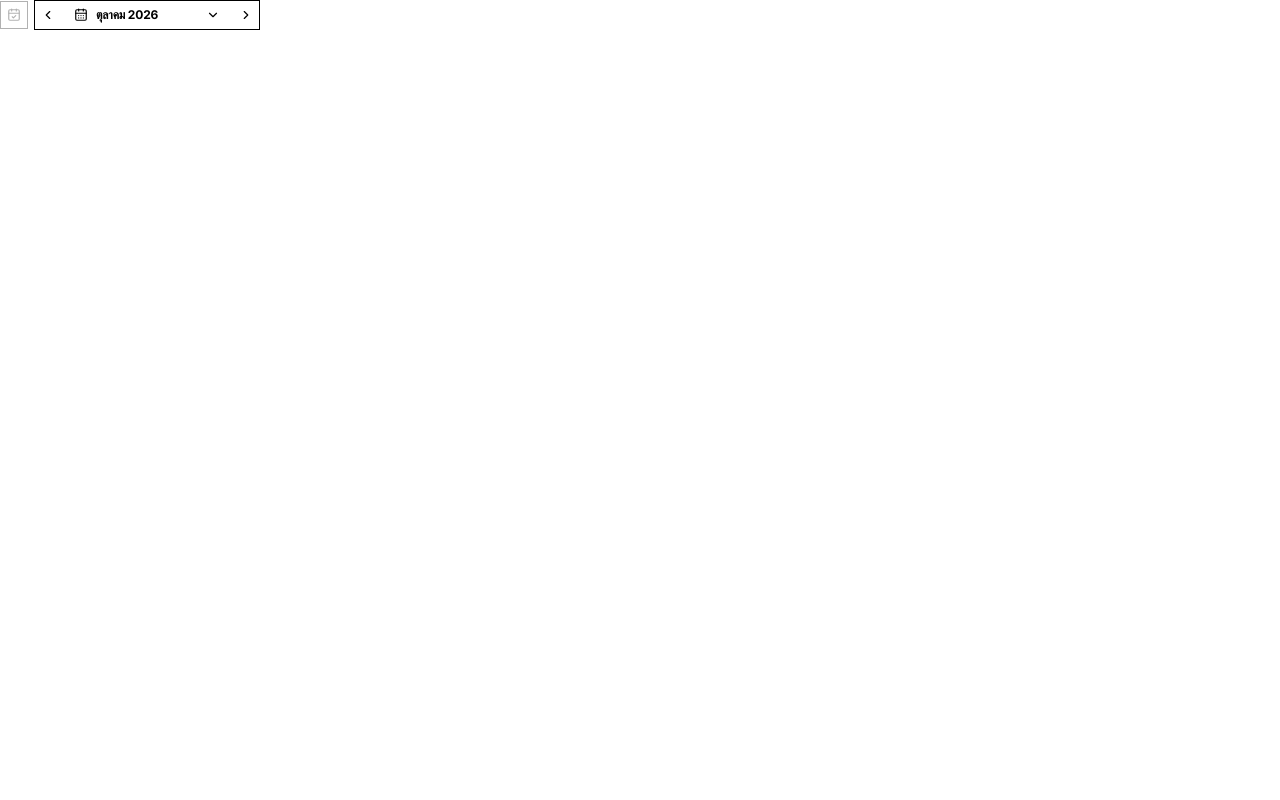
Test: PeriodPicker — trigger › is closed at first and toggles on each click (aria-expanded follows)
The image size is (1280, 800).
Click the button "ตุลาคม 2026". click: click(147, 15)
box: top-left (62, 1), bottom-right (232, 29)
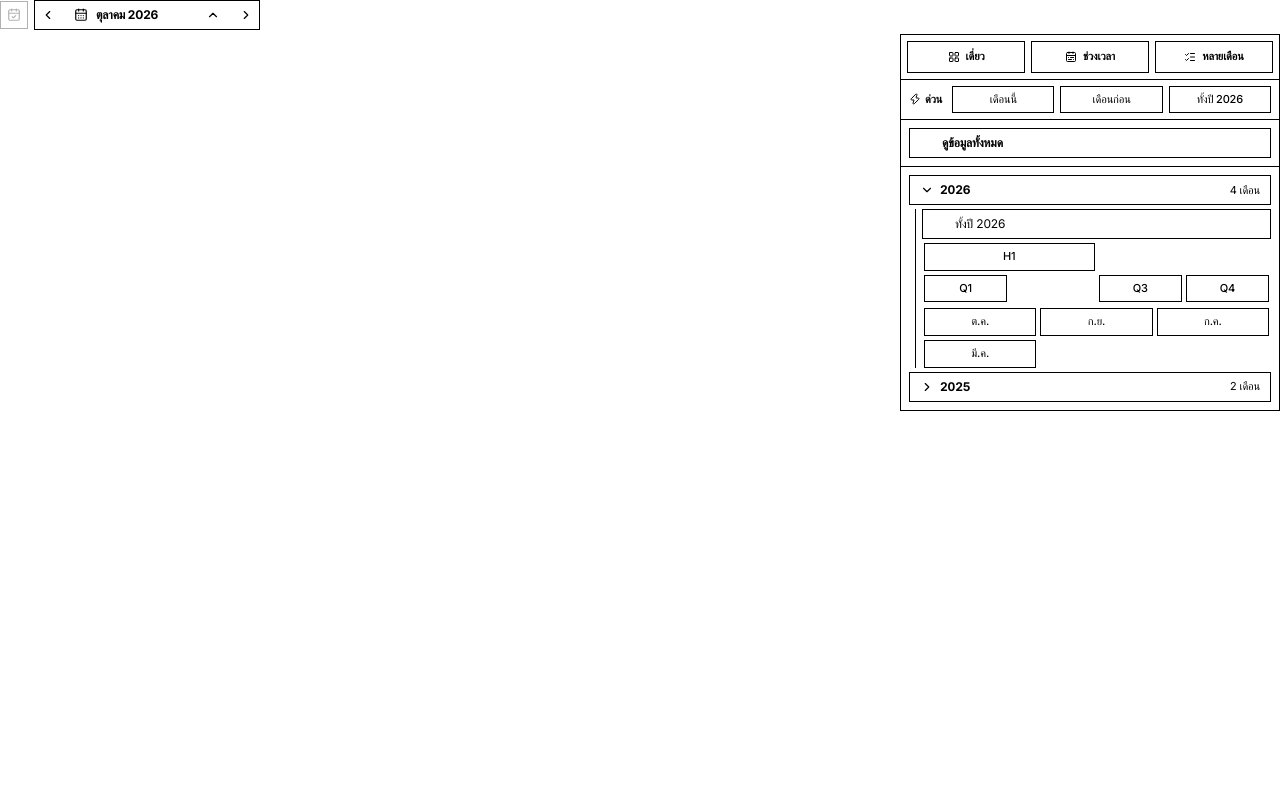
expect the dialog is shown: met, box top-left (900, 34), bottom-right (1279, 411)
expect the button "ตุลาคม 2026" is expanded: met
Click the button "ตุลาคม 2026". click: click(147, 15)
box: top-left (62, 1), bottom-right (232, 29)
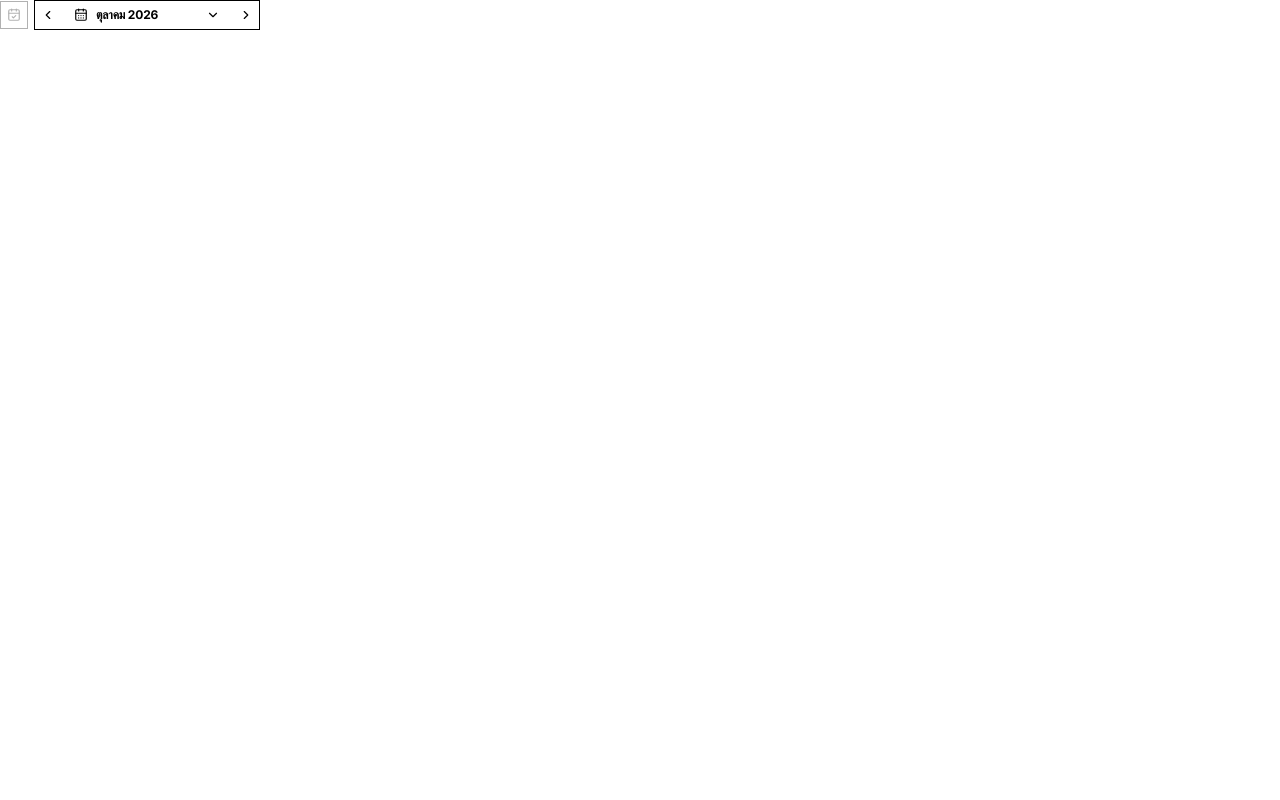
expect the dialog is gone: met
expect the button "ตุลาคม 2026" is collapsed: met, box top-left (62, 1), bottom-right (232, 29)
